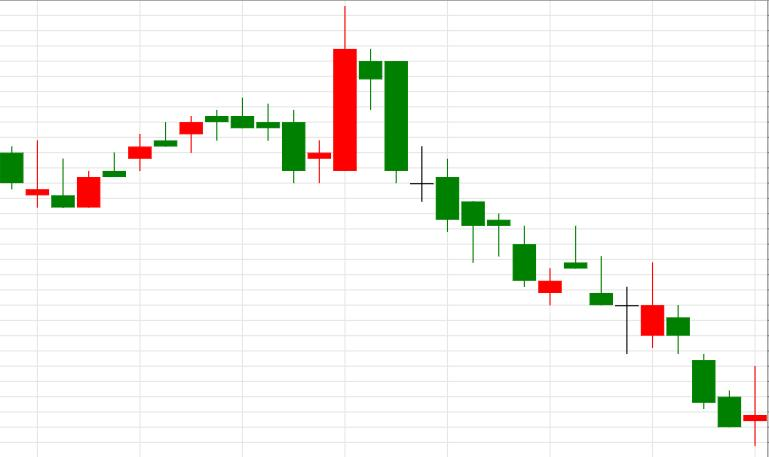hammer_rise: (359, 49, 485, 262)
inverse_hammer_rise: (360, 49, 664, 354)
